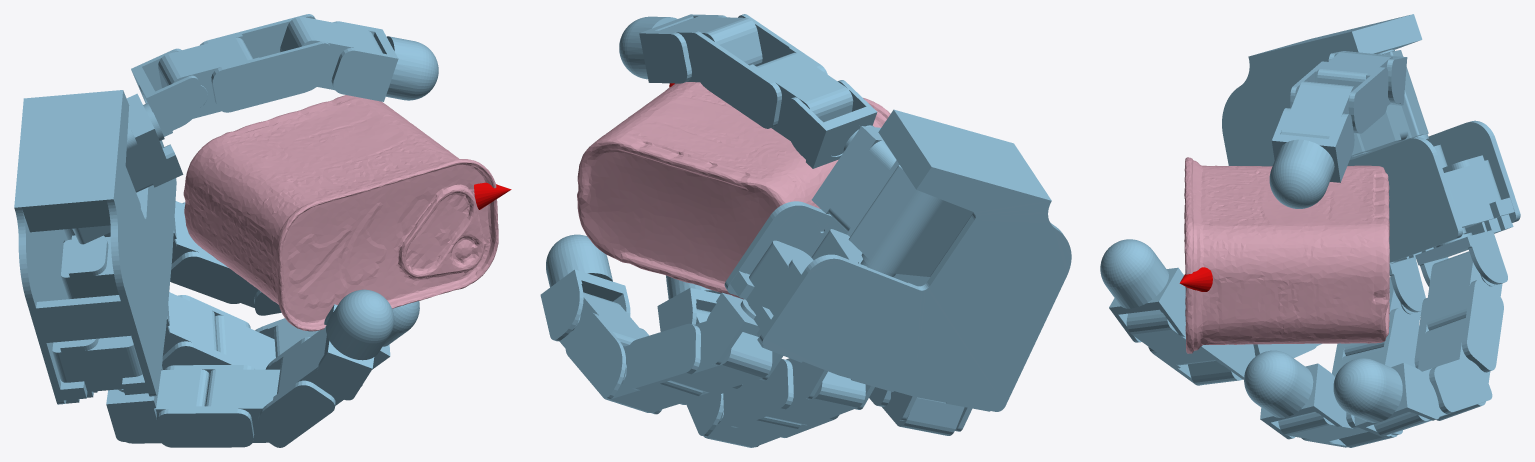
3 renders of one model, left to right at view 1: azimuth 30°, elevation 25°; view 2: azimuth 150°, elevation 25°; view 3: azimuth 270°, elevation 25°, orthographic. The views are drawn at different scales.
Parts seen in each view (by area): view 1: world, potted_meat_can.stl; view 2: world, potted_meat_can.stl; view 3: world, potted_meat_can.stl.
Boxes of the visible parts, x1,y1,x2,y2 form: world: (14,14,511,447); potted_meat_can.stl: (183,95,498,331); world: (540,14,1071,447); potted_meat_can.stl: (577,82,890,299); world: (1100,14,1520,447); potted_meat_can.stl: (1184,157,1389,353).
Bounding box in the file's own units: 0.2116 × 0.1703 × 0.1709.
